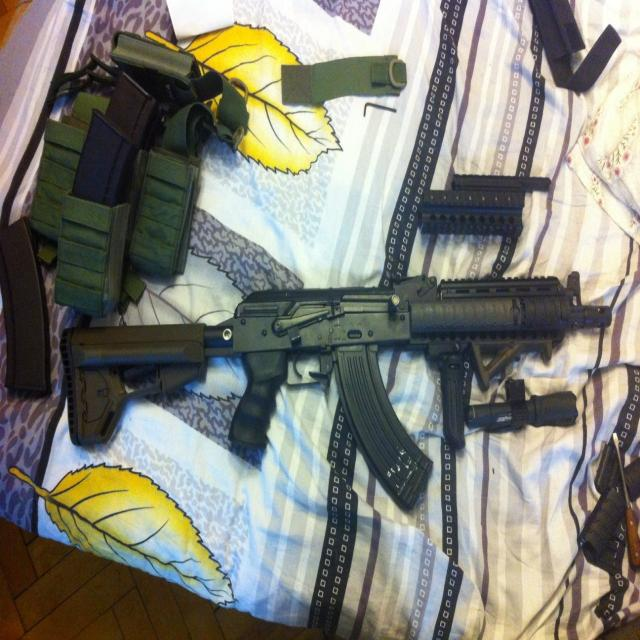firearm: (62, 270, 612, 513)
knife: (612, 429, 640, 568)
